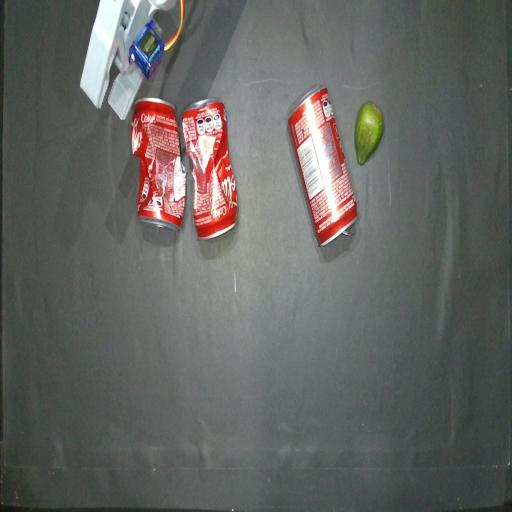higo: (355, 101, 383, 165)
lata: (288, 87, 357, 245)
lata_defectuoso: (182, 99, 238, 239), (131, 99, 186, 229)
